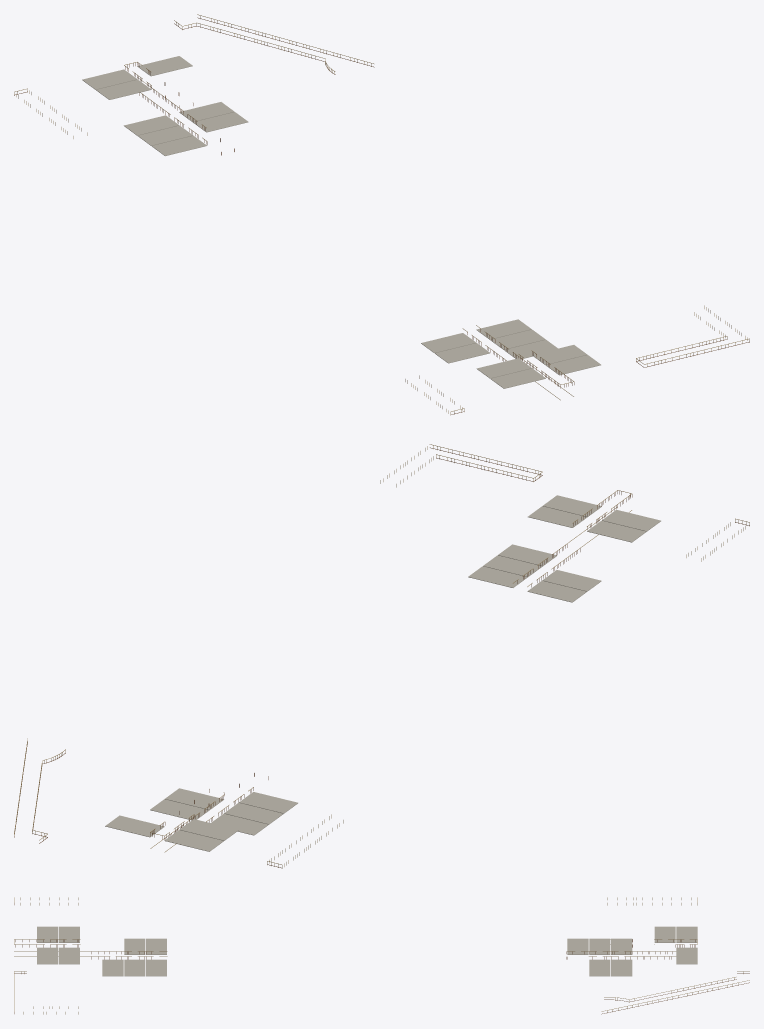
Rendered from QuietGrove17Receiving_r001.glb.
3 views of the same model, one above another, from view 1: azimuth 30°, elevation 25°; view 2: azimuth 150°, elevation 25°; view 3: azimuth 270°, elevation 25° (orthographic). The views are drawn at different scales.
Visible parts, largest first — view 1: QG_Batch_30; view 2: QG_Batch_30, QG17_Bearing_117, QG17_Bearing_391, QG17_Bearing_105, QG17_Bearing_379, QG17_Bearing_135, QG17_Bearing_361, QG17_Bearing_373, QG17_Bearing_141, QG17_Bearing_153, QG17_Bearing_367, QG17_Bearing_397 (+5 smaller); view 3: QG17_Bearing_153, QG17_Bearing_379, QG17_Bearing_123, QG17_Bearing_129, QG17_Bearing_147, QG17_Bearing_385, QG17_Bearing_105, QG17_Bearing_361, QG17_Bearing_111, QG17_Bearing_391, QG17_Bearing_135, QG17_Bearing_141 (+7 smaller).
Boxes of the visible parts, box(x1,y1,x2,y2) form: QG_Batch_30: box(405, 305, 749, 415); QG_Batch_30: box(380, 444, 749, 561); QG17_Bearing_117: box(527, 580, 586, 602); QG17_Bearing_391: box(164, 830, 223, 851); QG17_Bearing_105: box(468, 566, 527, 587); QG17_Bearing_379: box(105, 815, 164, 837); QG17_Bearing_135: box(224, 802, 283, 824); QG17_Bearing_361: box(528, 506, 587, 527); QG17_Bearing_373: box(587, 520, 646, 542); QG17_Bearing_141: box(542, 570, 601, 591); QG17_Bearing_153: box(498, 544, 557, 566); QG17_Bearing_367: box(179, 819, 238, 840); QG17_Bearing_397: box(602, 509, 660, 531); QG17_Bearing_153: box(102, 959, 123, 976); QG17_Bearing_379: box(676, 947, 697, 964); QG17_Bearing_123: box(589, 959, 610, 976); QG17_Bearing_129: box(124, 959, 145, 976); QG17_Bearing_147: box(611, 959, 632, 976); QG17_Bearing_385: box(37, 947, 58, 964); QG17_Bearing_105: box(146, 959, 166, 976); QG17_Bearing_361: box(59, 947, 79, 964); QG17_Bearing_111: box(567, 938, 588, 954); QG17_Bearing_391: box(676, 926, 697, 942); QG17_Bearing_135: box(589, 938, 610, 954); QG17_Bearing_141: box(124, 938, 145, 954).
Bounding box in the file's own units: 91.85 × 5.88 × 250.
3 materials, 2 textured.
